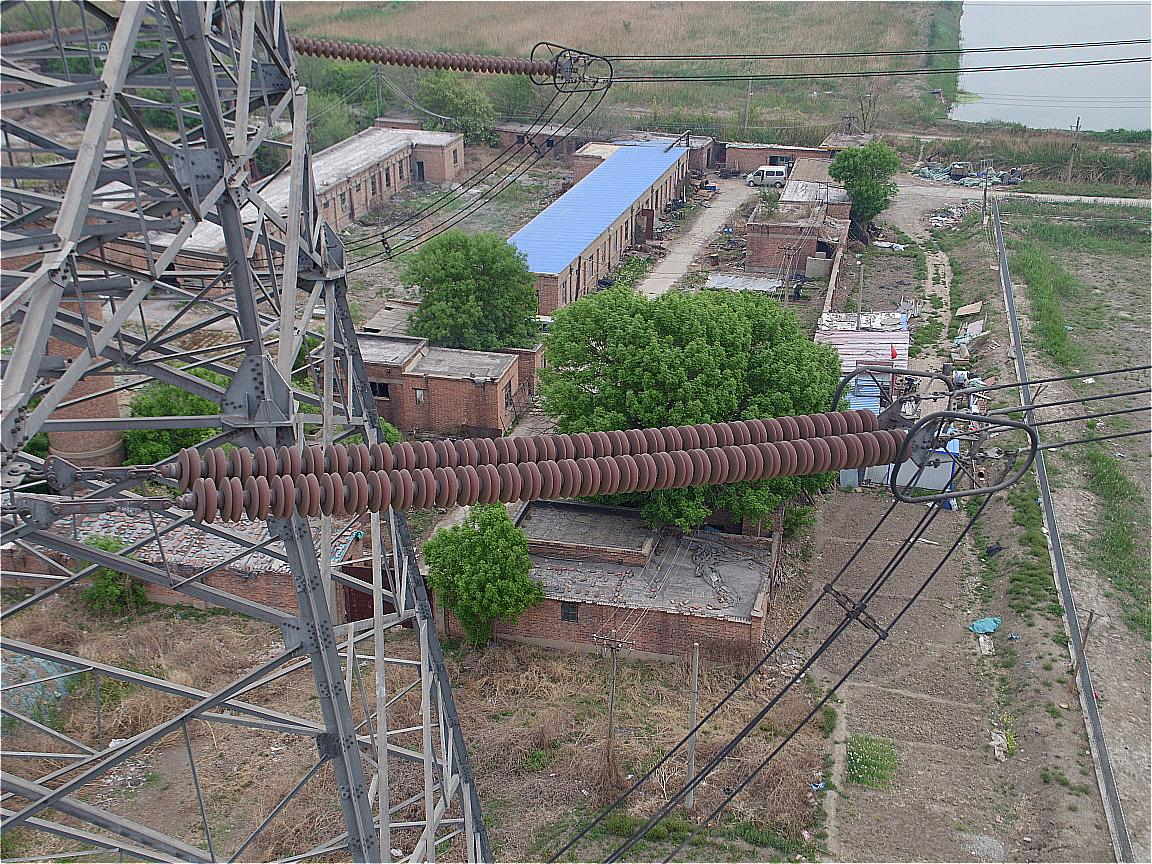insultor1: (295, 36, 560, 76)
insultor2: (177, 404, 912, 523)
